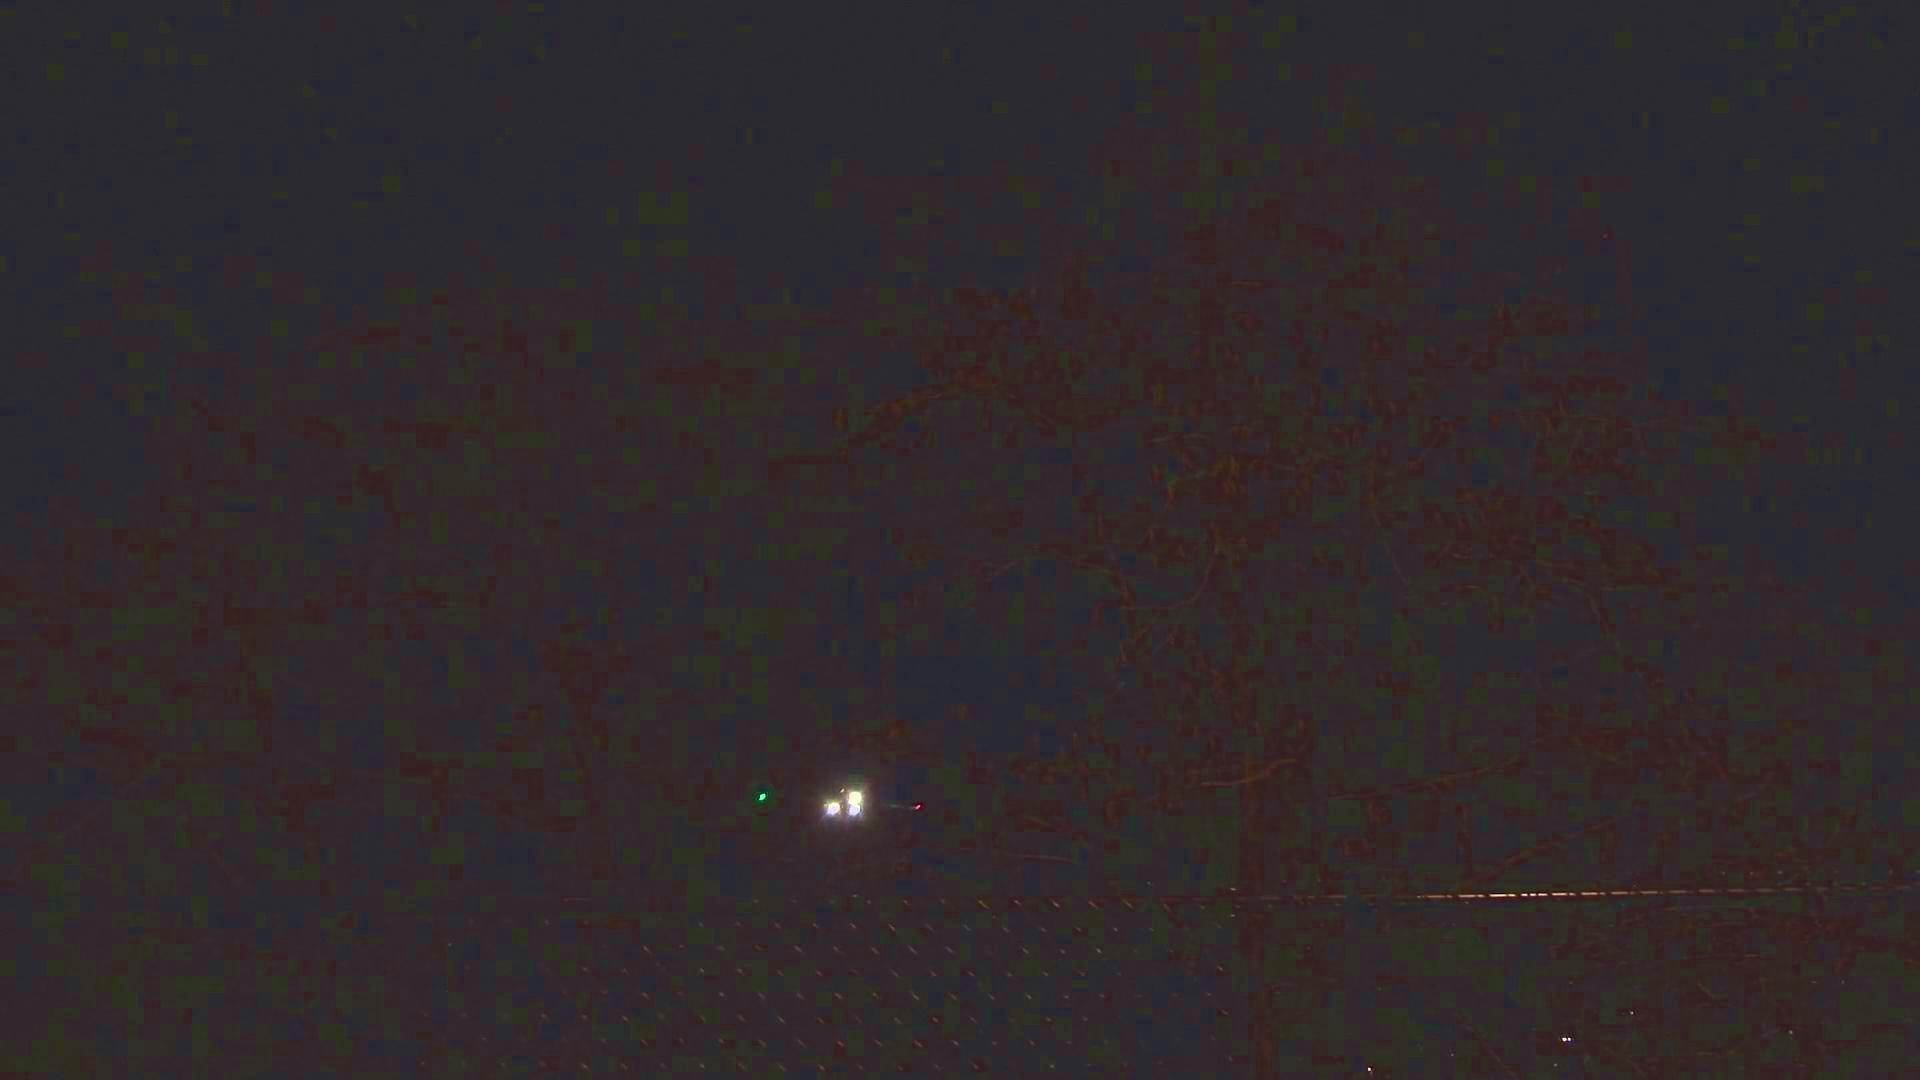Plane: (731, 773, 956, 832)
